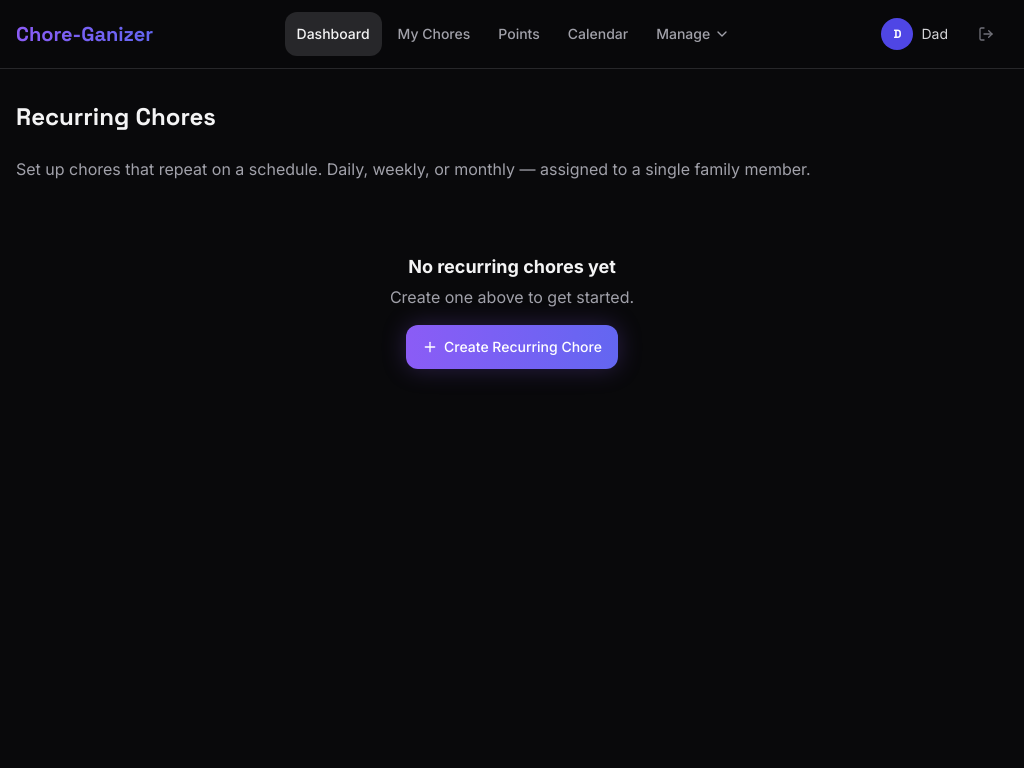
it: RecurringChoresPage › shows create form when Create Recurring Chore clicked
Click the button "Create Recurring Chore" at (512, 347), box [406,325,618,369]
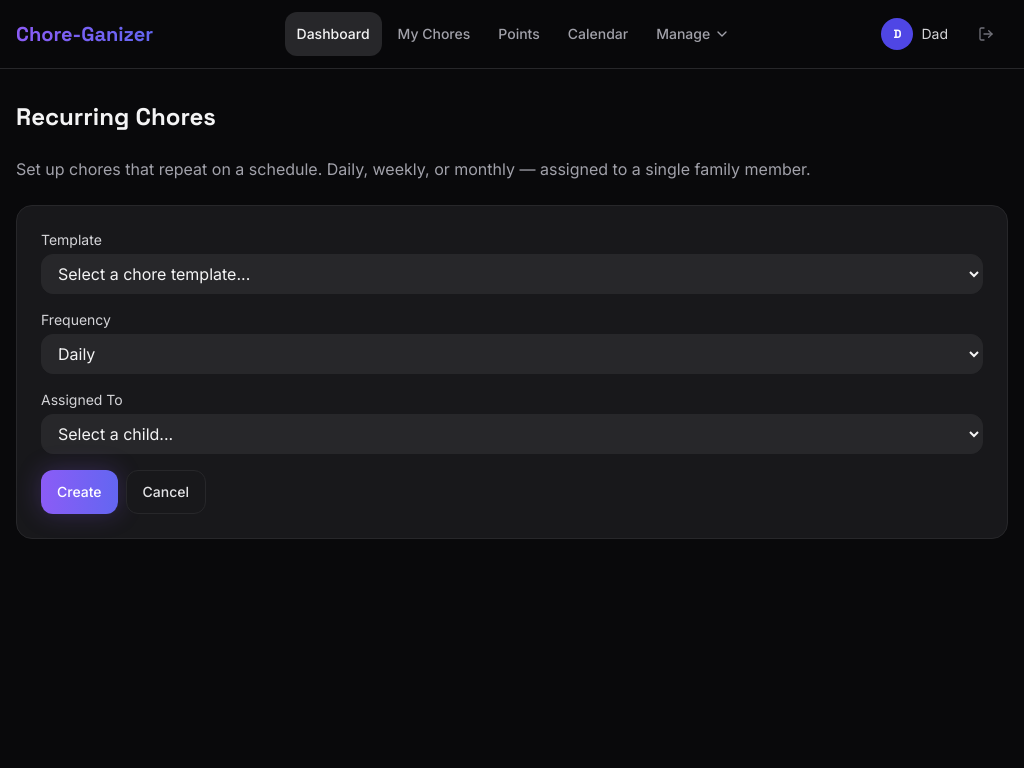
Result: the dropdown labelled "Template" is shown at [41,254,983,294]
Result: the dropdown labelled "Frequency" is shown at [41,334,983,374]
Result: the dropdown labelled "Assigned To" is shown at [41,414,983,454]
